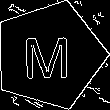M_N: (25, 30, 74, 81)
